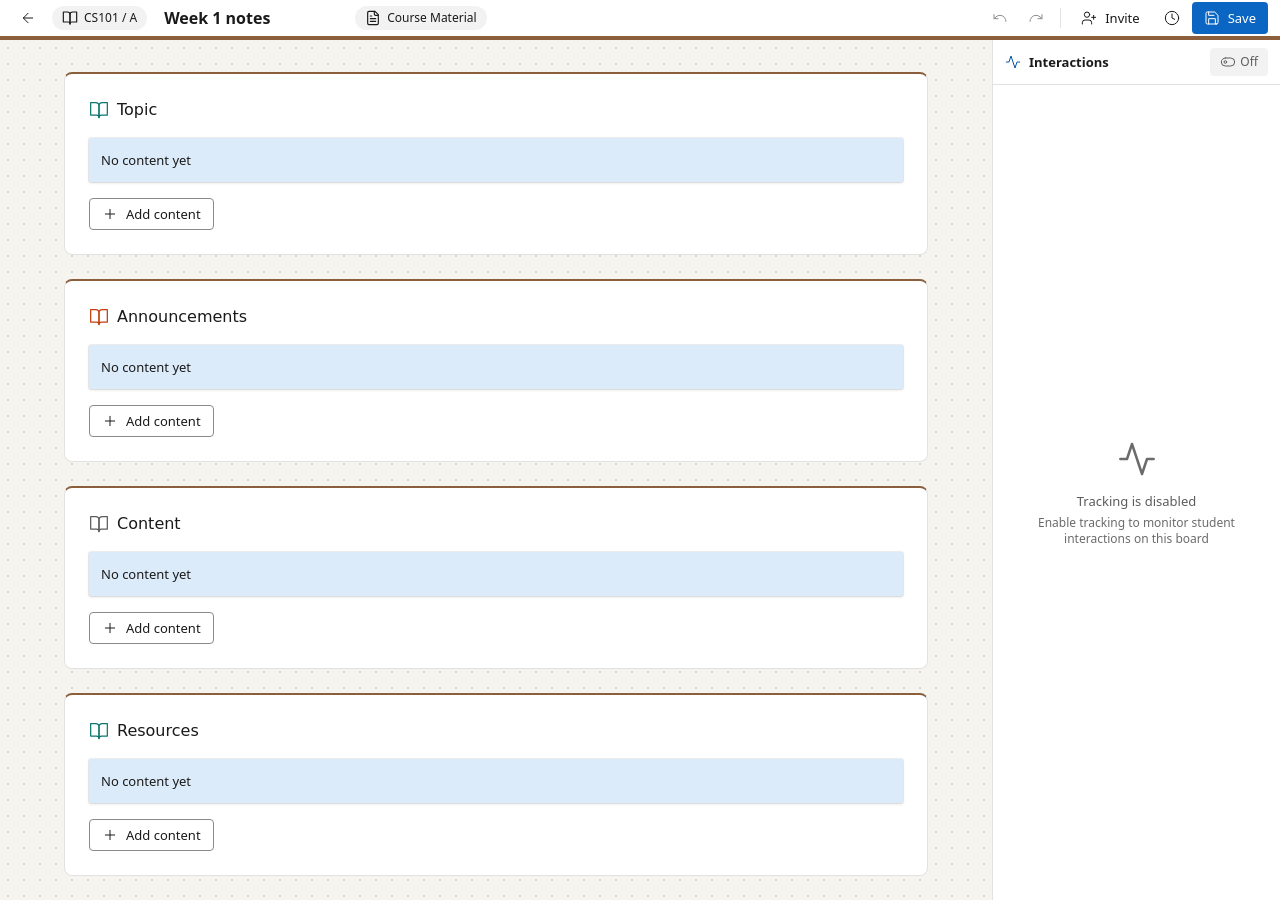
it: WorkspacePage › Cancel in the unsaved-changes dialog keeps the lecturer on the board
Replace the text in the field named "Board name" with "Renamed board" at (251, 18), box x1=155 y1=2 x2=347 y2=34
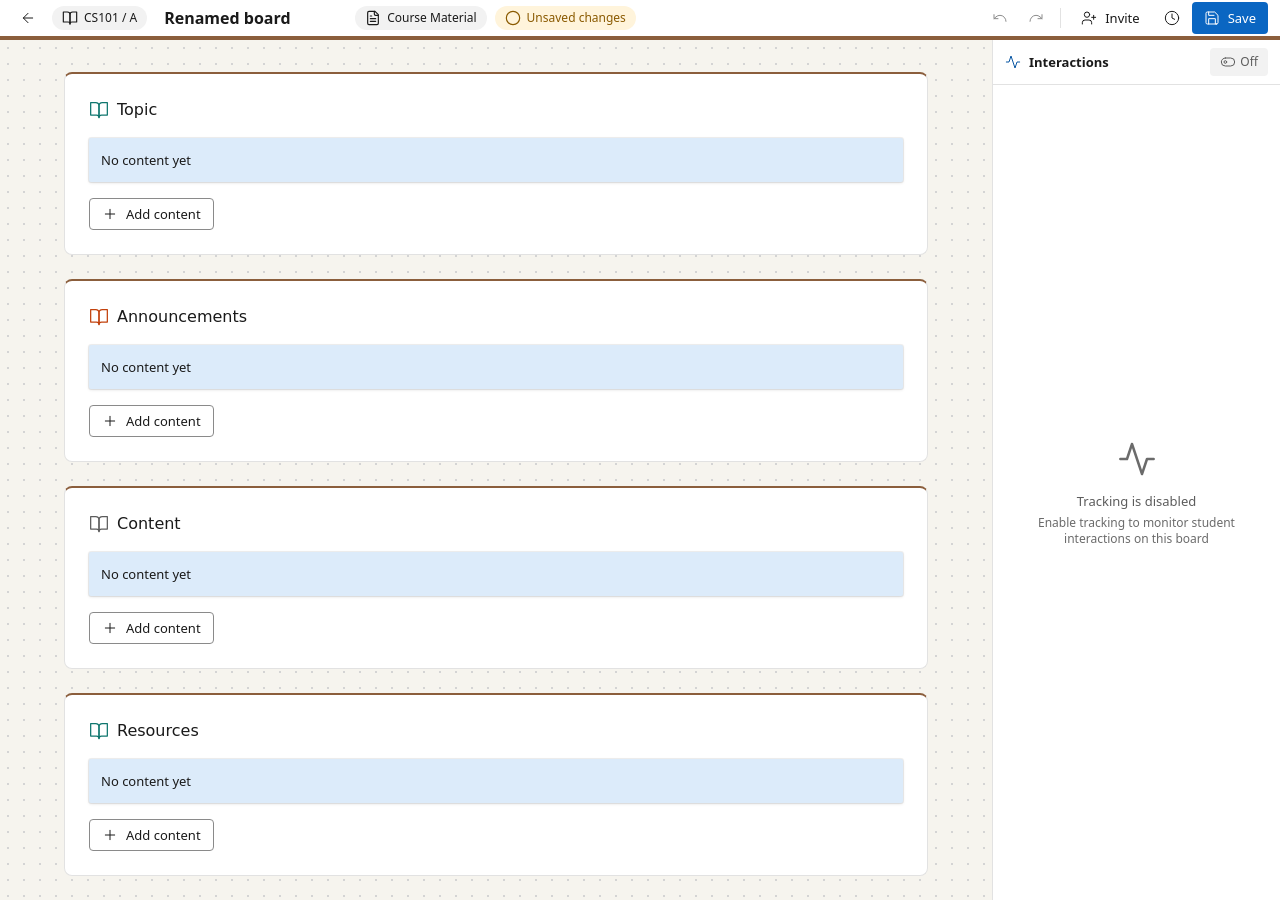
expect the text "Unsaved changes" is shown: met, box x1=527 y1=10 x2=626 y2=26
Click the button named "Go back" at (28, 18), box x1=12 y1=2 x2=44 y2=34
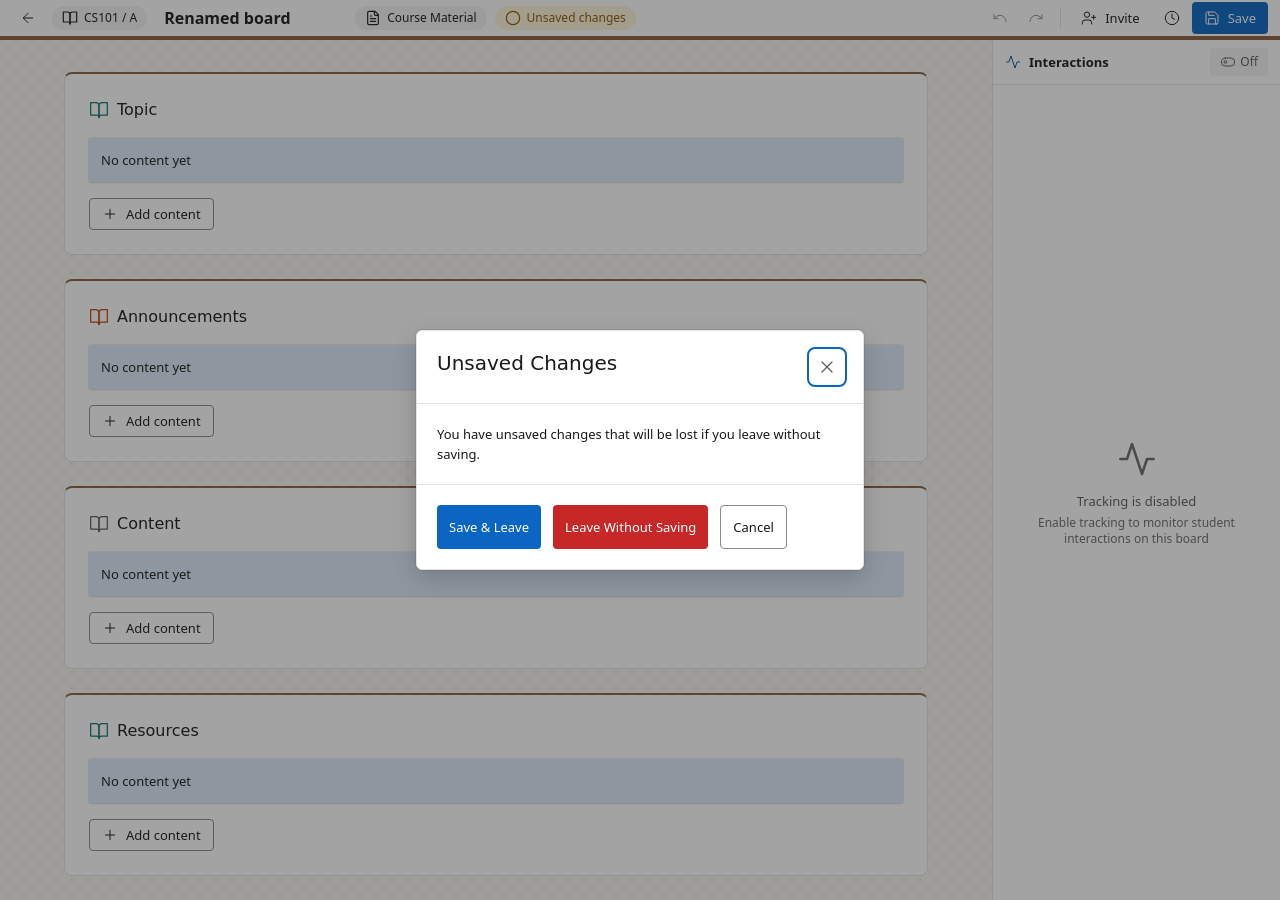
Click the button "Cancel" at (754, 527), box x1=720 y1=505 x2=787 y2=549
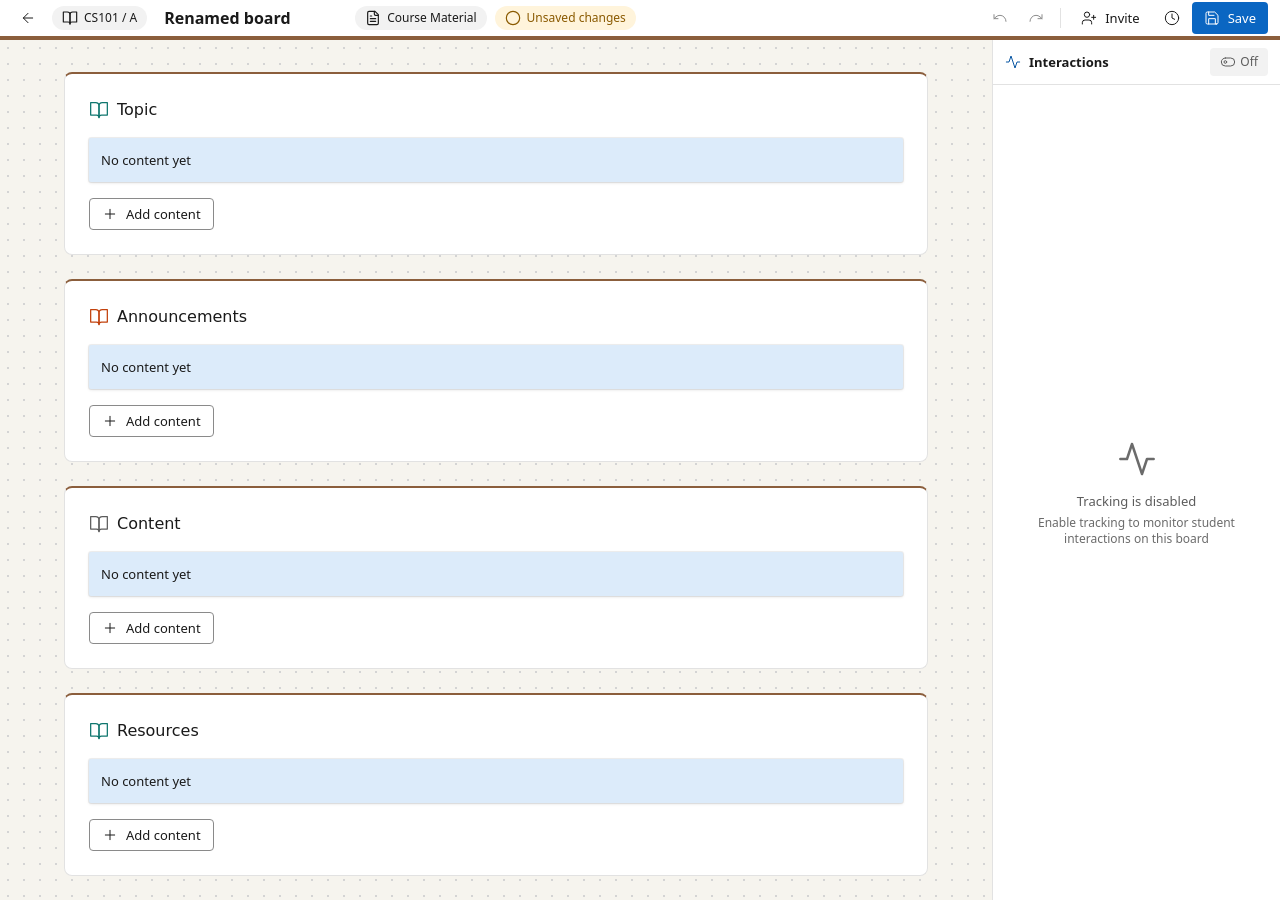
expect the dialog is gone: met
